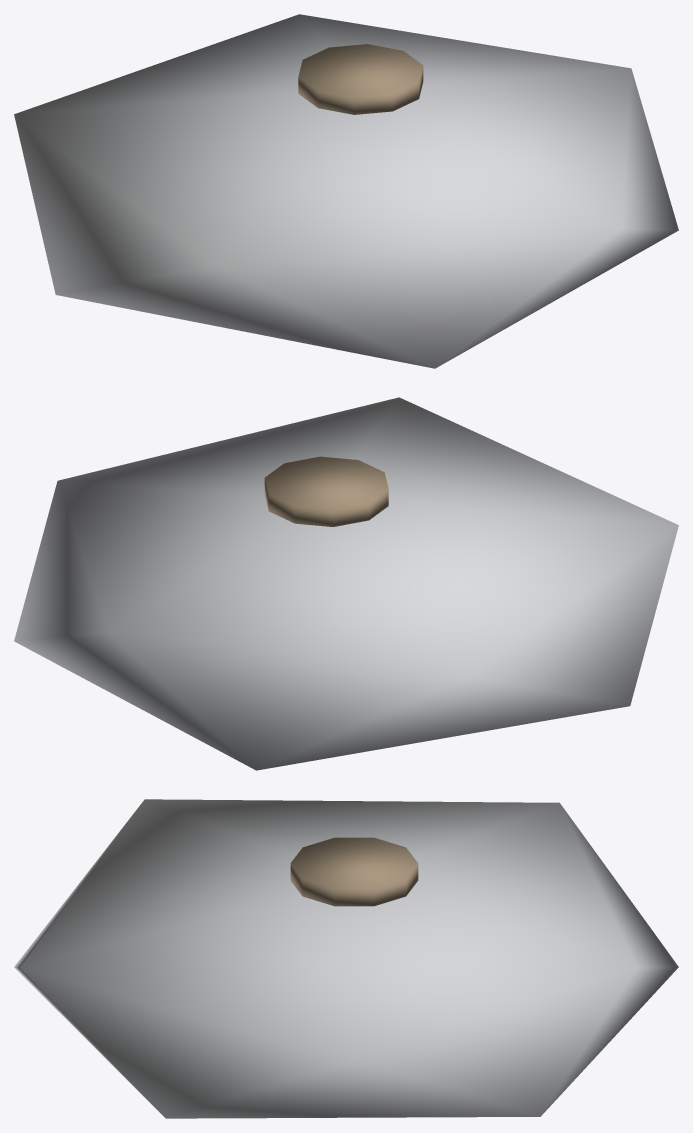
File: lost_button.glb
The picture shows the model from 3 angles, top to bottom: view 1: azimuth 30°, elevation 25°; view 2: azimuth 150°, elevation 25°; view 3: azimuth 270°, elevation 25°; orthographic projection.
Visible parts, largest first — view 1: lost_button; view 2: lost_button; view 3: lost_button.
Boxes of the visible parts, x1,y1,x2,y2 form: lost_button: [14, 14, 678, 368]; lost_button: [14, 397, 678, 770]; lost_button: [14, 799, 678, 1118].
Size of the model in its own units: 0.2086 by 0.0669 by 0.2082.
